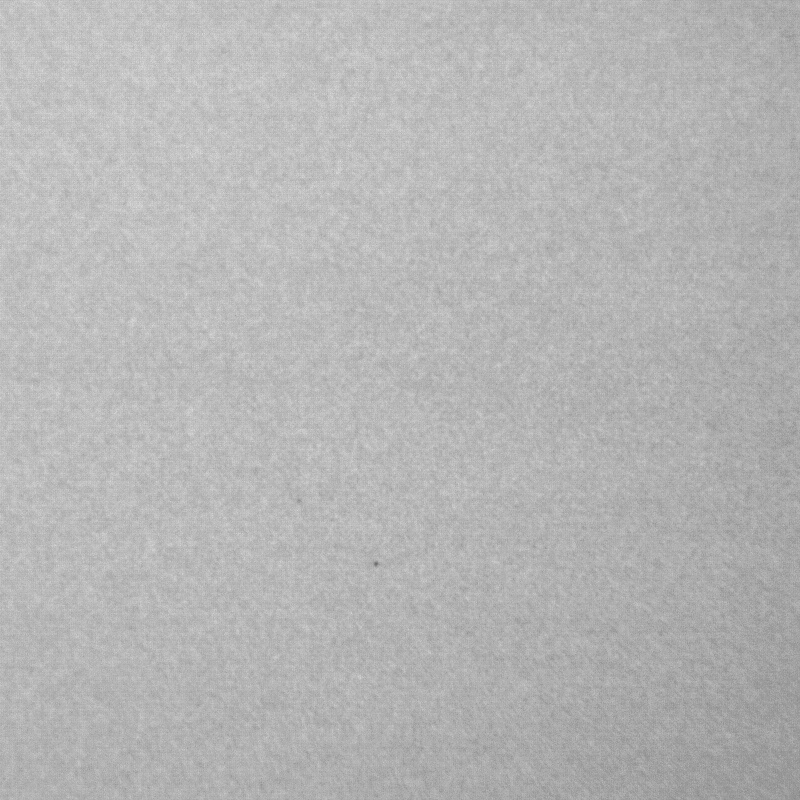defect: (369, 560, 385, 572)
